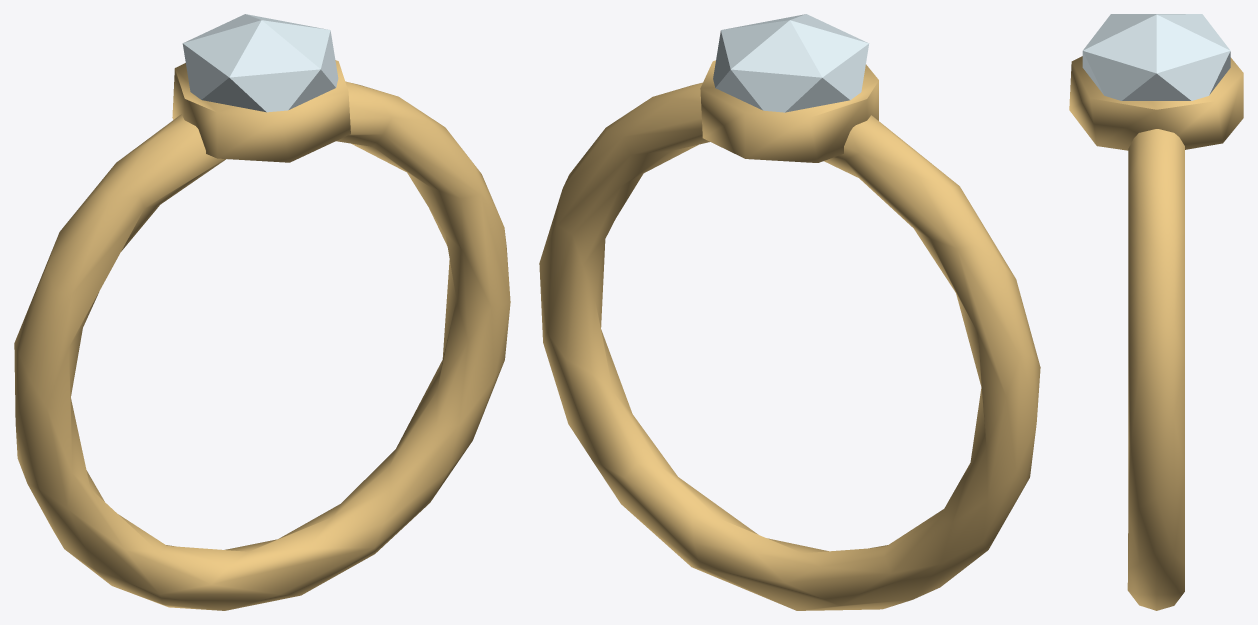
The model's file is BezelRing_LOD1.fbx.
3 views of the same model, side by side, from view 1: azimuth 30°, elevation 25°; view 2: azimuth 150°, elevation 25°; view 3: azimuth 270°, elevation 25° (orthographic). The views are drawn at different scales.
Parts seen in each view (by area): view 1: BezelRing_Opaque; view 2: BezelRing_Opaque; view 3: BezelRing_Opaque.
Part boxes in pixels (<box>): BezelRing_Opaque: <box>14,14,510,610</box>; BezelRing_Opaque: <box>539,14,1040,610</box>; BezelRing_Opaque: <box>1069,14,1243,610</box>.
Bounding box in the file's own units: 2.23 × 2.53 × 0.7015.
